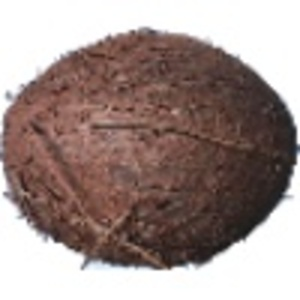coco: (1, 29, 300, 272)
